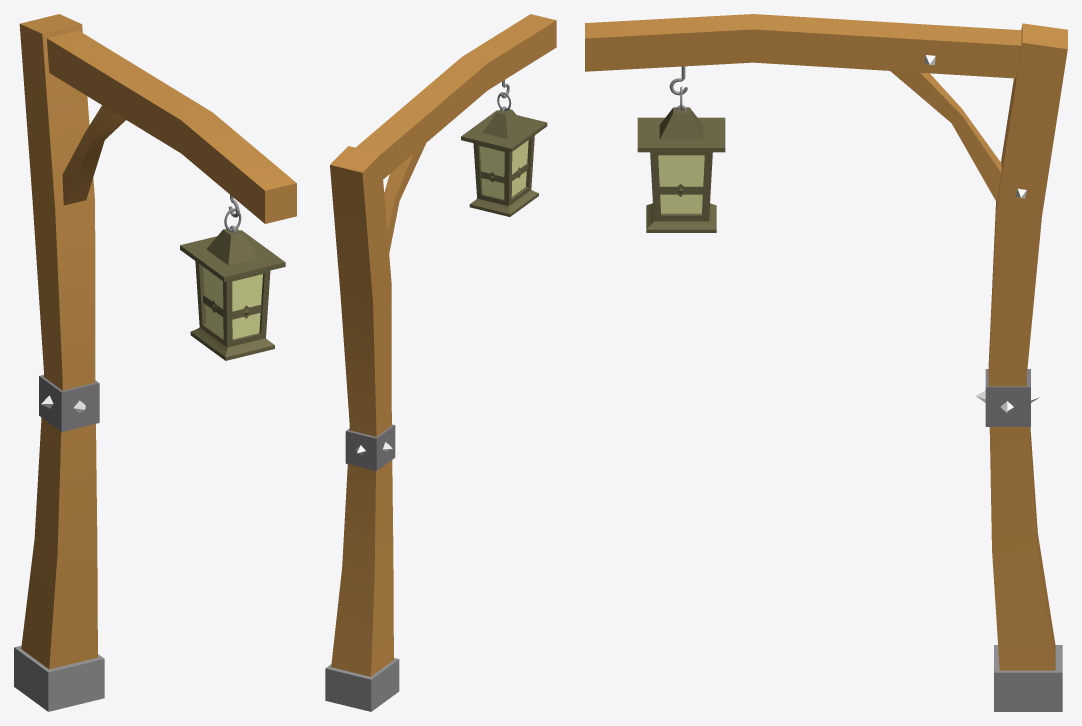
File: fonar.fbx
The picture shows the model from 3 angles, left to right: view 1: azimuth 30°, elevation 25°; view 2: azimuth 150°, elevation 25°; view 3: azimuth 270°, elevation 25°; orthographic projection. The views are drawn at different scales.
Visible parts, largest first — view 1: pCube40; view 2: pCube40; view 3: pCube40.
Part boxes in pixels (x1,y1,x2,y2): pCube40: [14, 14, 296, 711]; pCube40: [325, 14, 556, 711]; pCube40: [585, 14, 1067, 711].
Bounding box in the file's own units: 8.42 × 88.28 × 57.09.
